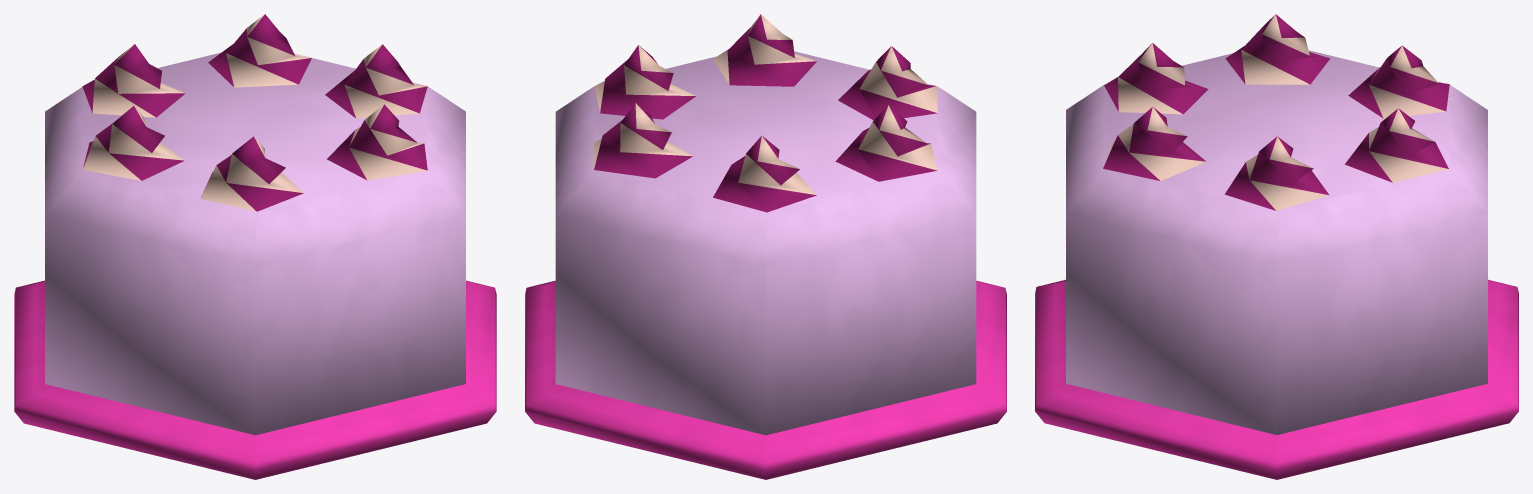
Rendered from Cake_B_03.FBX.
The picture shows the model from 3 angles, left to right: view 1: azimuth 30°, elevation 25°; view 2: azimuth 150°, elevation 25°; view 3: azimuth 270°, elevation 25°; orthographic projection.
Visible parts, largest first — view 1: Cake_2; view 2: Cake_2; view 3: Cake_2.
Boxes of the visible parts, x1,y1,x2,y2 form: Cake_2: (14,14,496,479); Cake_2: (525,14,1006,479); Cake_2: (1035,14,1518,479).
Bounding box in the file's own units: 117 × 67.83 × 101.
